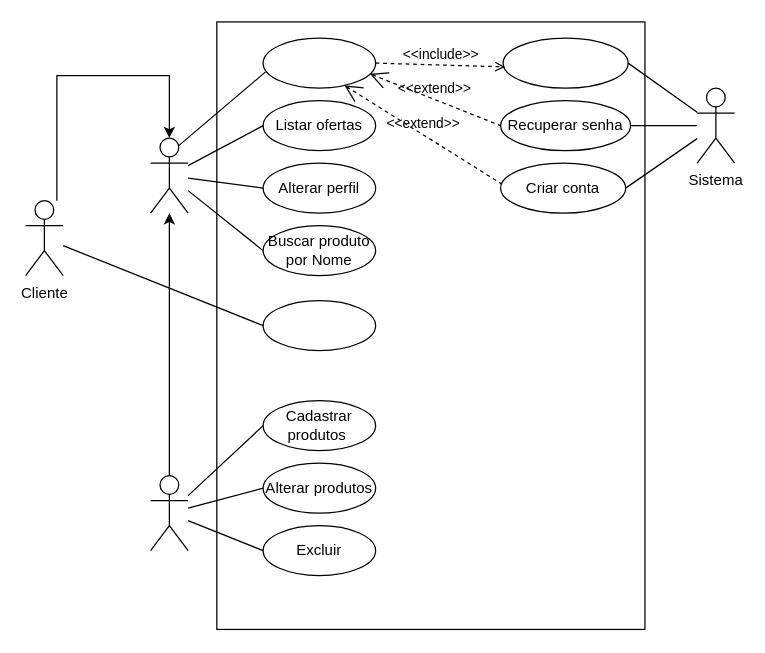
This 765x653 diagram has some shape labels left out. The shapes that lost their labels are listed below. From the top down, each one's centre as x and y in pixels, then its label:
At (319,62): "Login".
At (565,62): "Validar acesso".
At (168,175): "Usuário".
At (319,325): "Reservar oferta".
At (168,512): "Vendedor".
